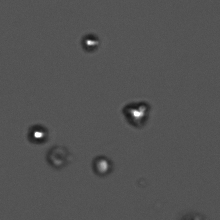Dead Cell: (46, 144, 75, 170)
Living Cell: (120, 98, 151, 129), (91, 154, 114, 177), (27, 123, 49, 144), (79, 33, 101, 51)
